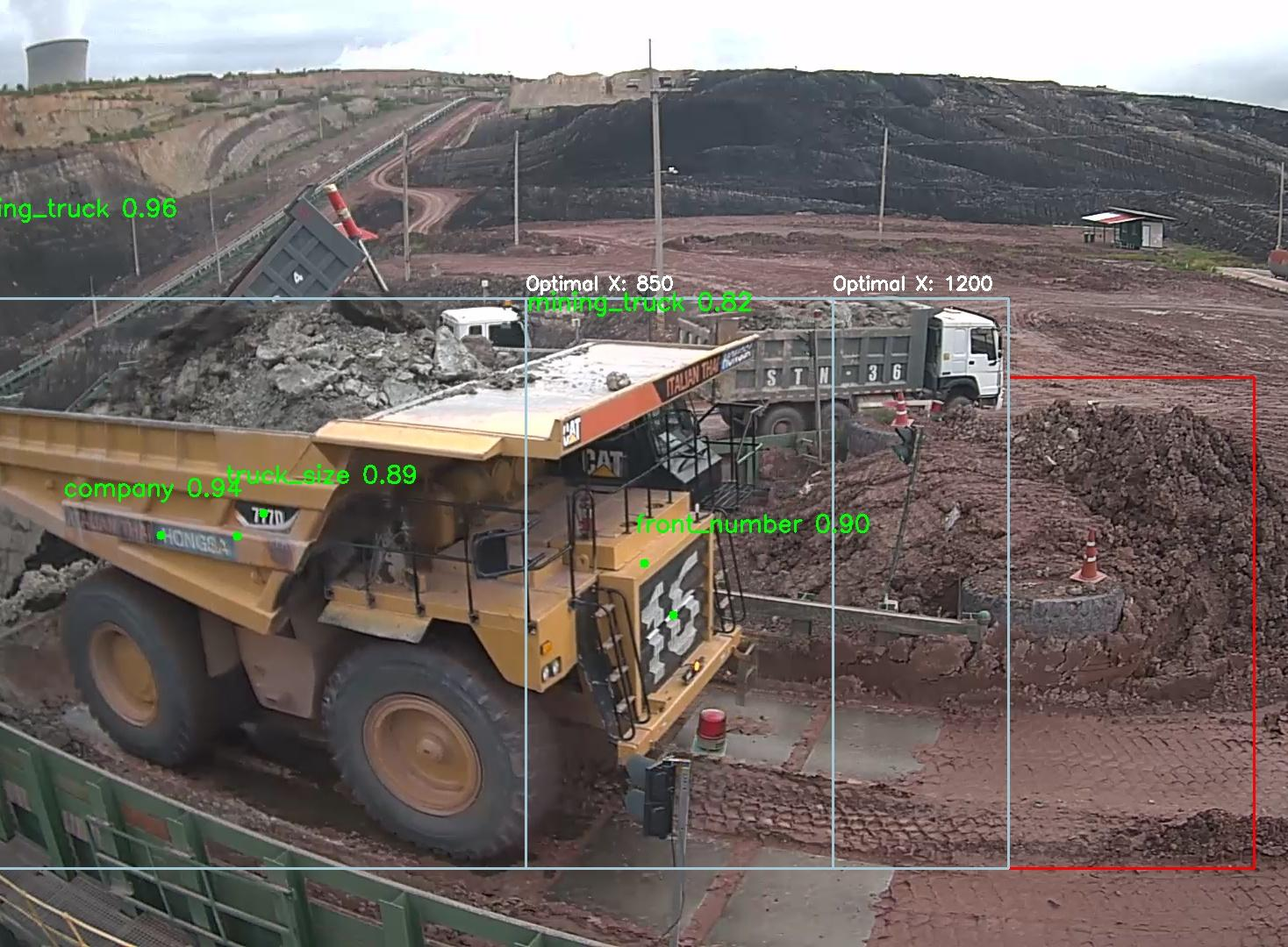company: (46, 496, 247, 566)
full_load: (130, 297, 535, 463)
mining_truck: (8, 273, 781, 867)
truck_size: (232, 490, 301, 534)
